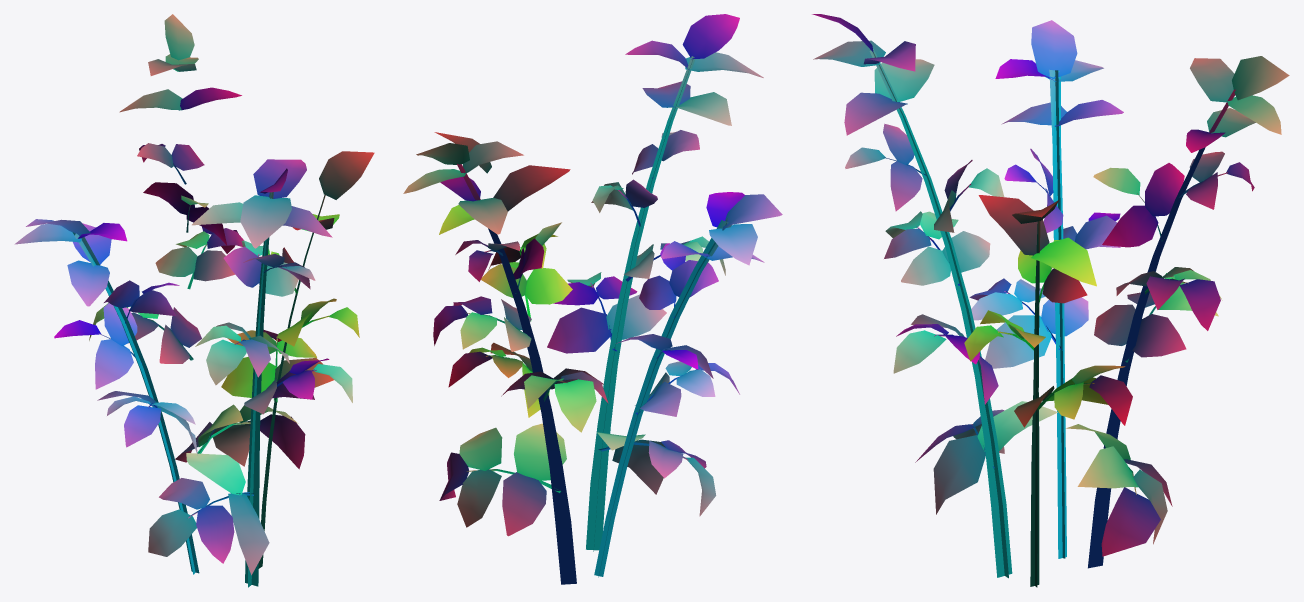
The model's file is Raspberry_wf0oefeja_High_wf0oefeja_VarA_LOD1.fbx.
The picture shows the model from 3 angles, left to right: view 1: azimuth 30°, elevation 25°; view 2: azimuth 150°, elevation 25°; view 3: azimuth 270°, elevation 25°; orthographic projection. The views are drawn at different scales.
Visible parts, largest first — view 1: _9cfz_VarA_LOD2; view 2: _9cfz_VarA_LOD2; view 3: _9cfz_VarA_LOD2.
Boxes of the visible parts, x1,y1,x2,y2 form: _9cfz_VarA_LOD2: (14,14,374,587); _9cfz_VarA_LOD2: (403,14,782,584); _9cfz_VarA_LOD2: (812,14,1289,587).
Size of the model in its own units: 29.29 by 38.74 by 31.19.
